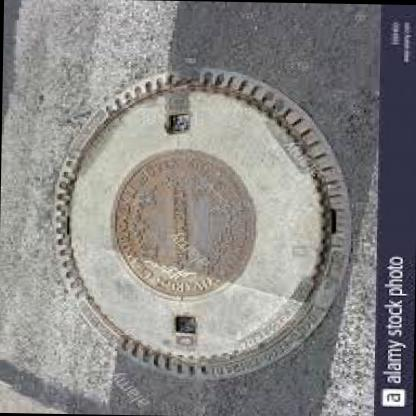manholes: (25, 37, 375, 408)
